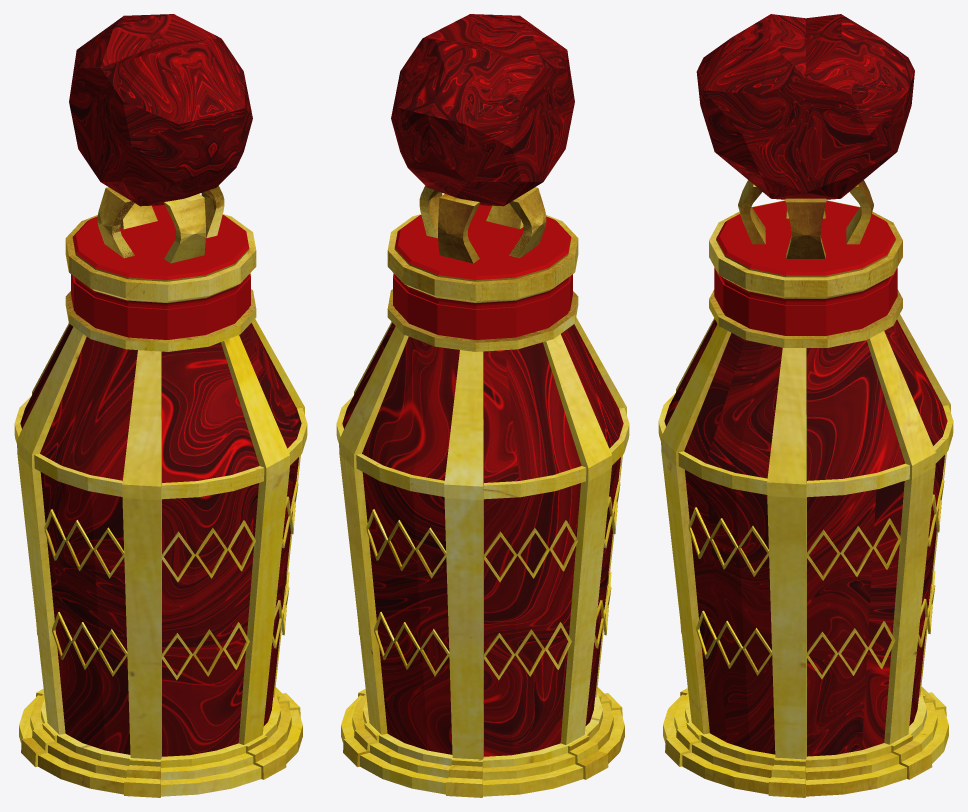
3 views of the same model, side by side, from view 1: azimuth 30°, elevation 25°; view 2: azimuth 150°, elevation 25°; view 3: azimuth 270°, elevation 25° (orthographic).
Visible parts, largest first — view 1: FINAL; view 2: FINAL; view 3: FINAL.
Part boxes in pixels (bbox=[...]): FINAL: bbox=[14, 14, 307, 797]; FINAL: bbox=[336, 14, 629, 797]; FINAL: bbox=[658, 14, 953, 797].
Size of the model in its own units: 1.77 by 4.59 by 1.73.
3 materials, 2 textured.
